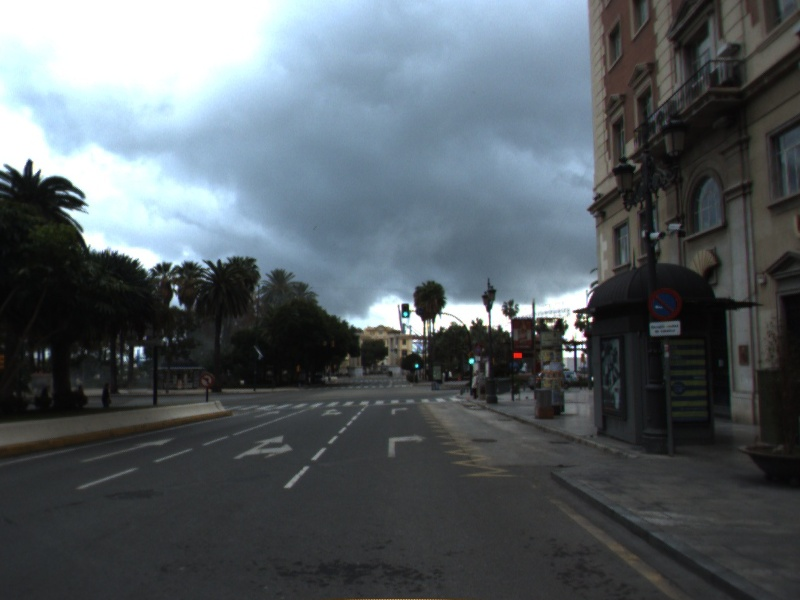RIGHT: (385, 431, 430, 460), (389, 405, 411, 417)
STRAIGHT: (77, 435, 179, 466), (251, 409, 283, 420)
STRAIGHT_RIGHT: (230, 433, 296, 462), (318, 407, 345, 419)
